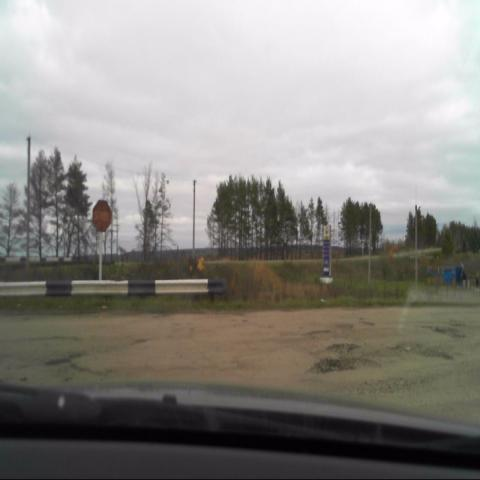2_5: (93, 198, 112, 232)
